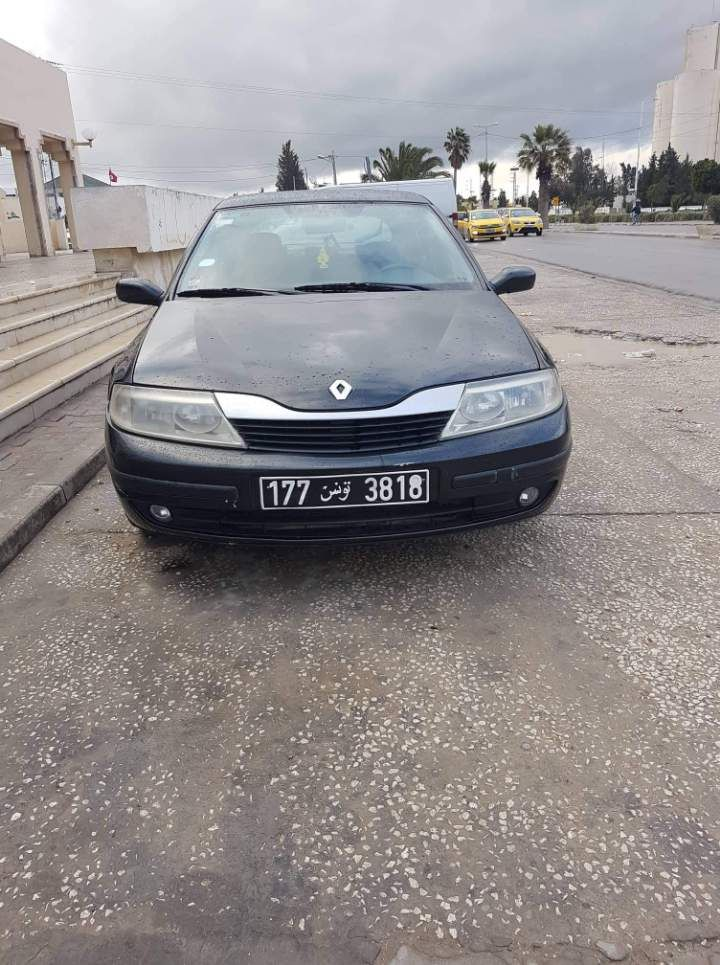LP: (257, 469, 427, 509)
